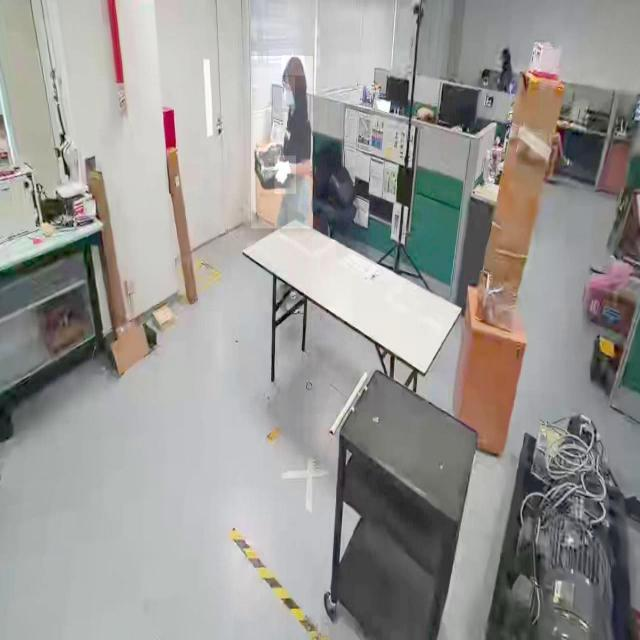gloves: (274, 156, 296, 194)
